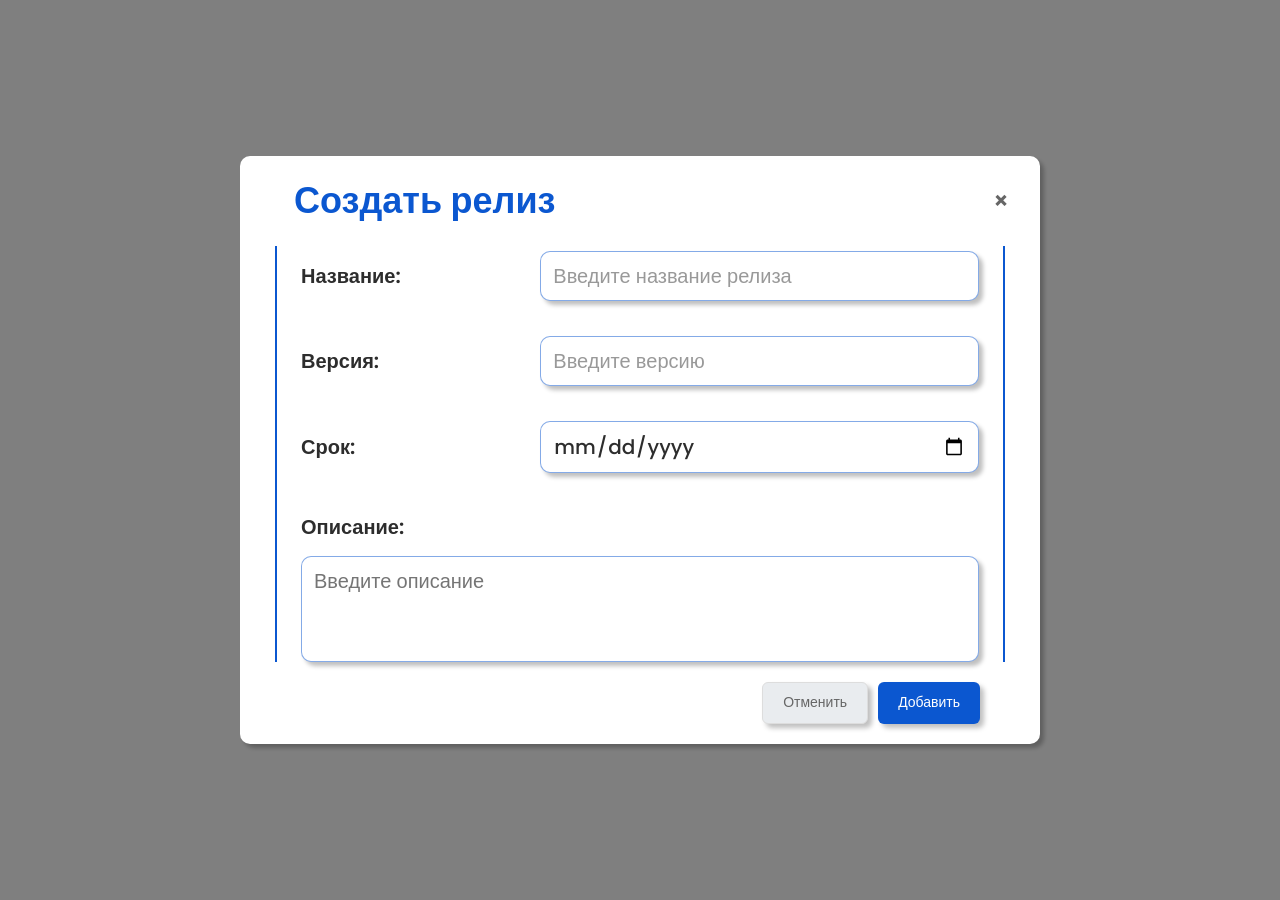
ReleaseModal › Form Submission › shows success modal on successful submission
Type "Test Release" into the field with placeholder "Введите название релиза".
click(760, 276); type("Test Release")  # box [540,251,979,301]
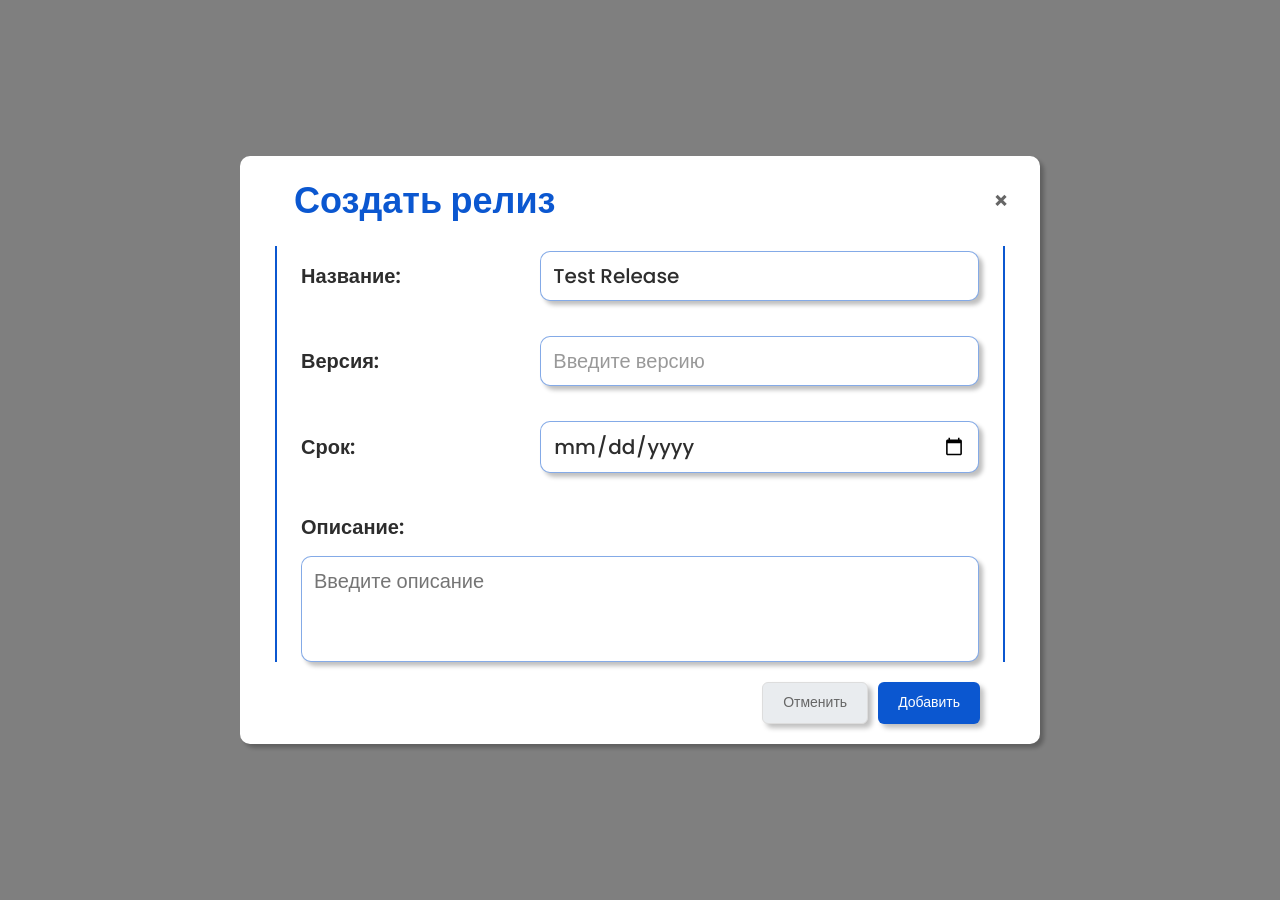
Type "1.0.0" into the field with placeholder "Введите версию".
click(760, 361); type("1.0.0")  # box [540,336,979,386]
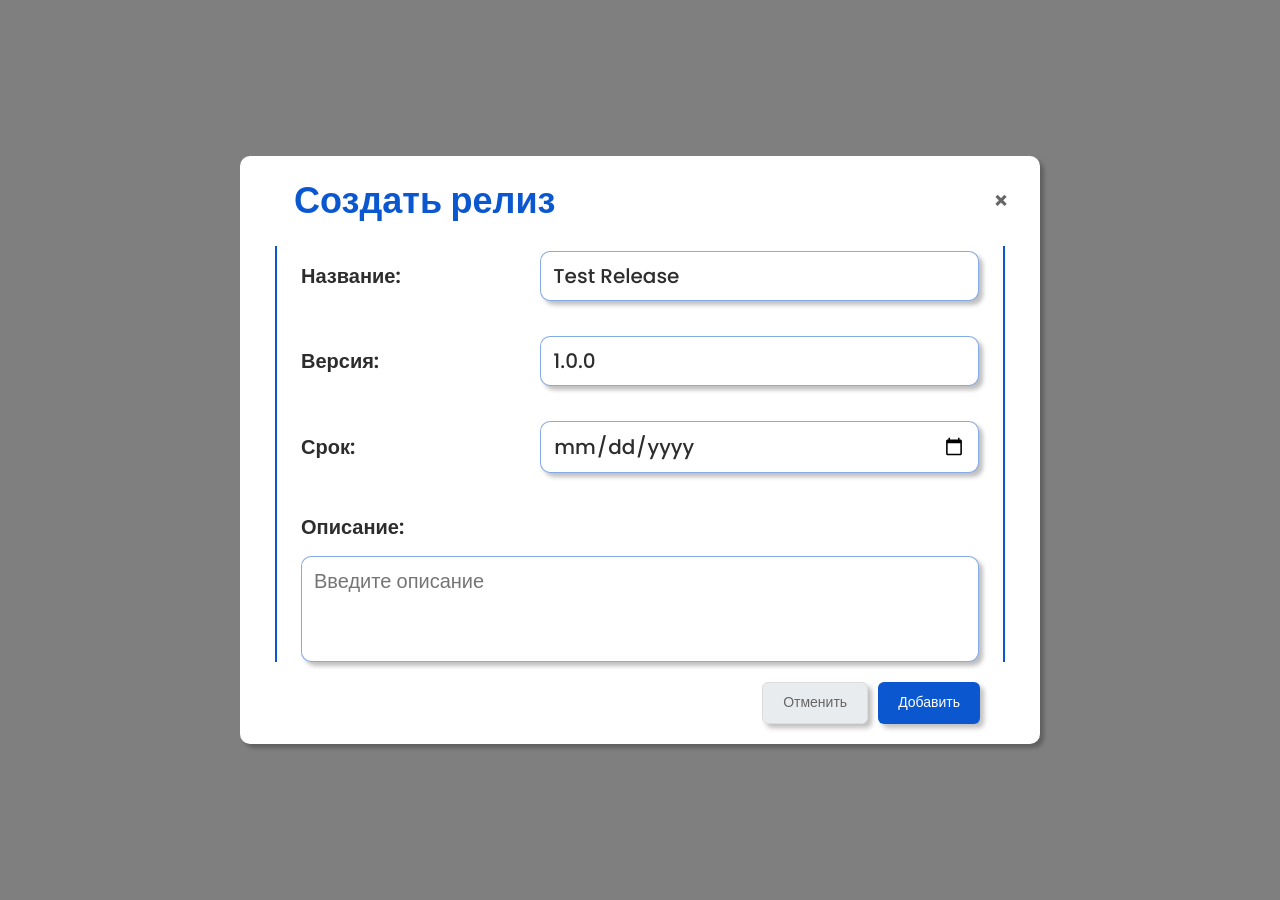
Submit the form with test id "modal-form", box [240,246,1040,744]
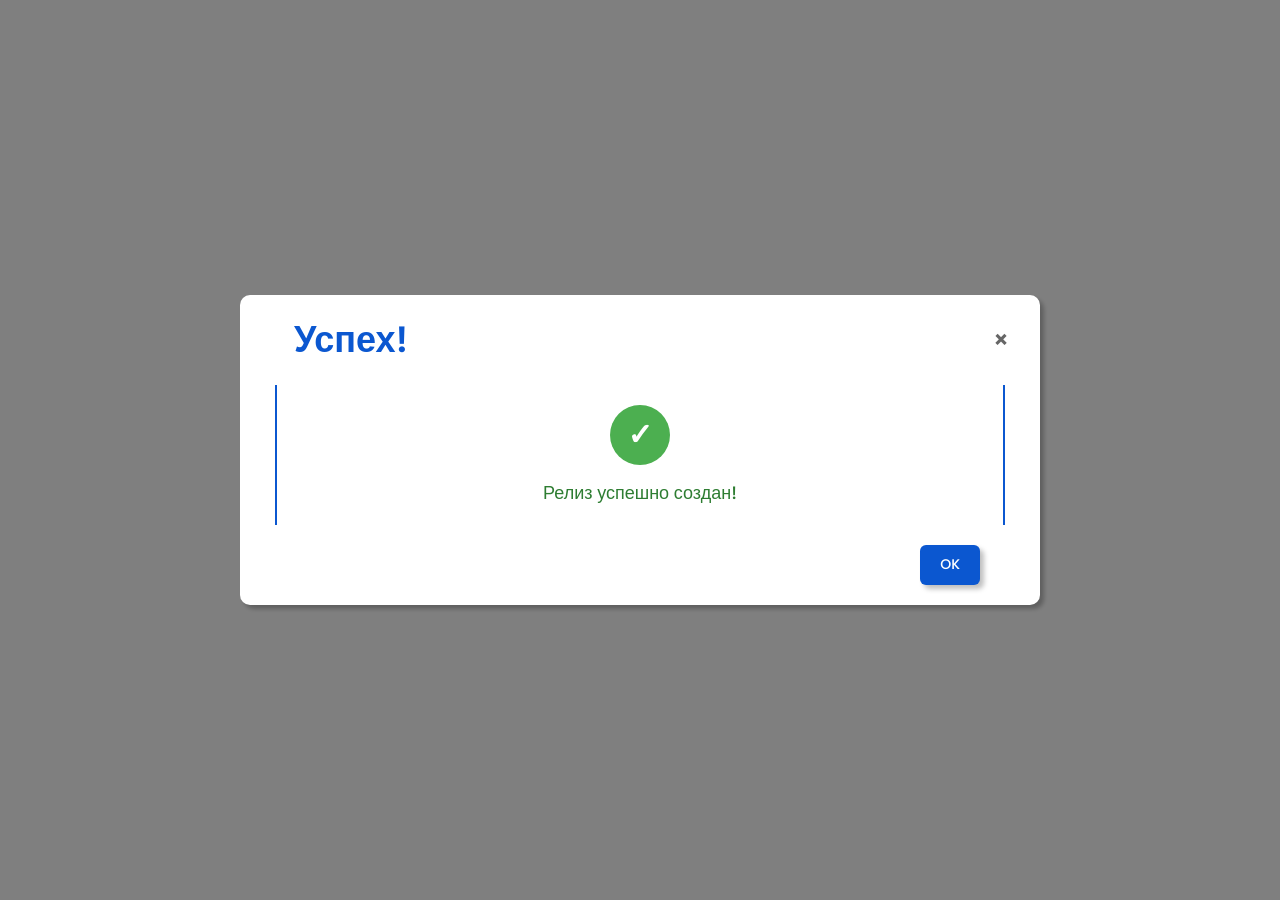
Expected: the element with test id "success-modal-content" is shown, [543,405,737,505]
Expected: the text with test id "success-modal-message" reads "Релиз успешно создан!", [543,480,737,505]
